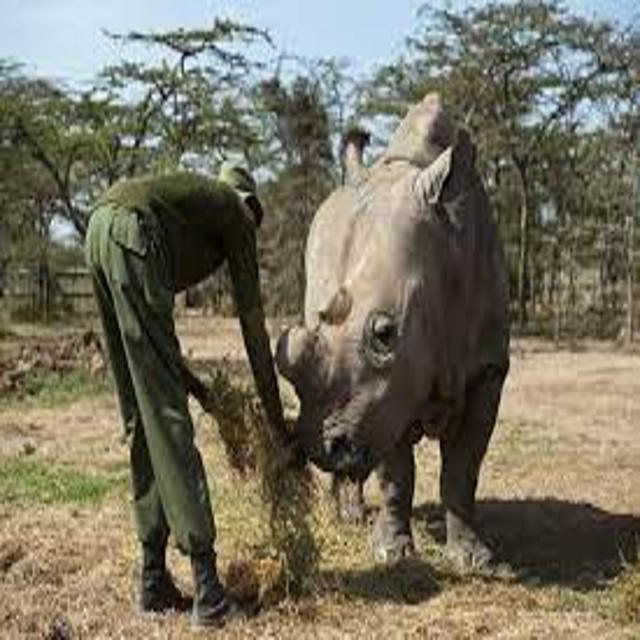Rinoceros: (263, 53, 578, 574)
